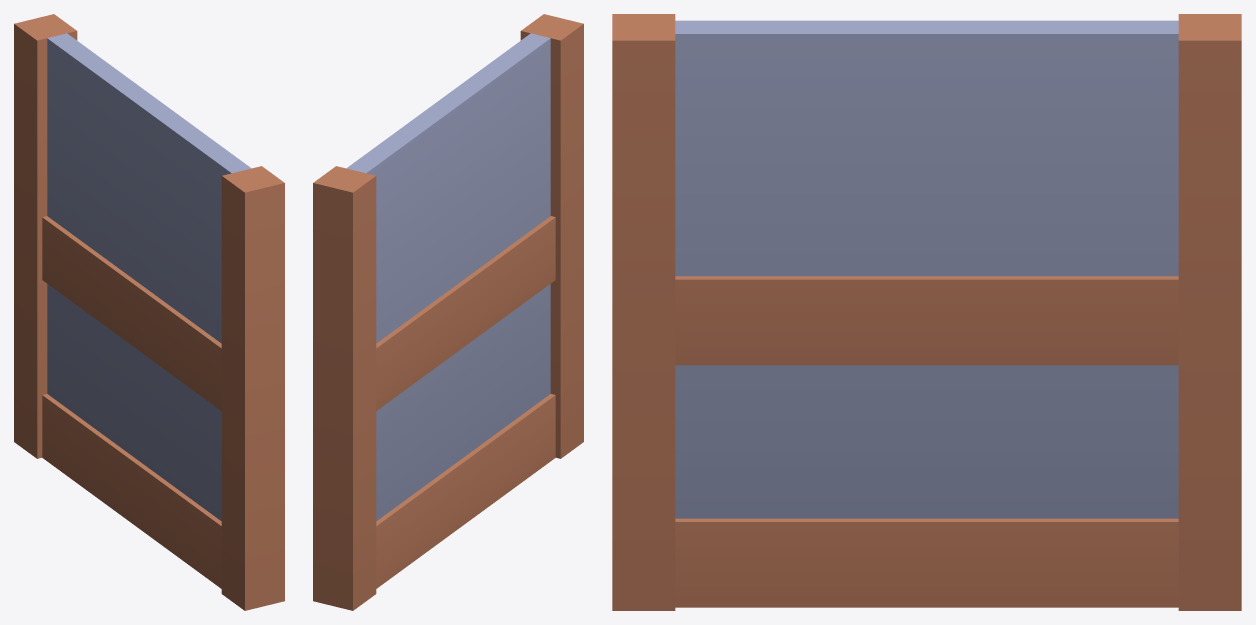
File: wall-kn-wall-detail-horizontal.glb
3 views of the same model, side by side, from view 1: azimuth 30°, elevation 25°; view 2: azimuth 150°, elevation 25°; view 3: azimuth 270°, elevation 25° (orthographic). The views are drawn at different scales.
Parts seen in each view (by area): view 1: wall-detail-horizontal; view 2: wall-detail-horizontal; view 3: wall-detail-horizontal.
Boxes of the visible parts, x1,y1,x2,y2 form: wall-detail-horizontal: (14,14,284,610); wall-detail-horizontal: (313,14,583,610); wall-detail-horizontal: (612,14,1241,610).
Size of the model in its own units: 0.3 by 3 by 3.
1 material, 1 textured.
